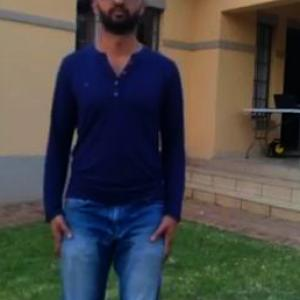follow: (56, 0, 181, 299)
